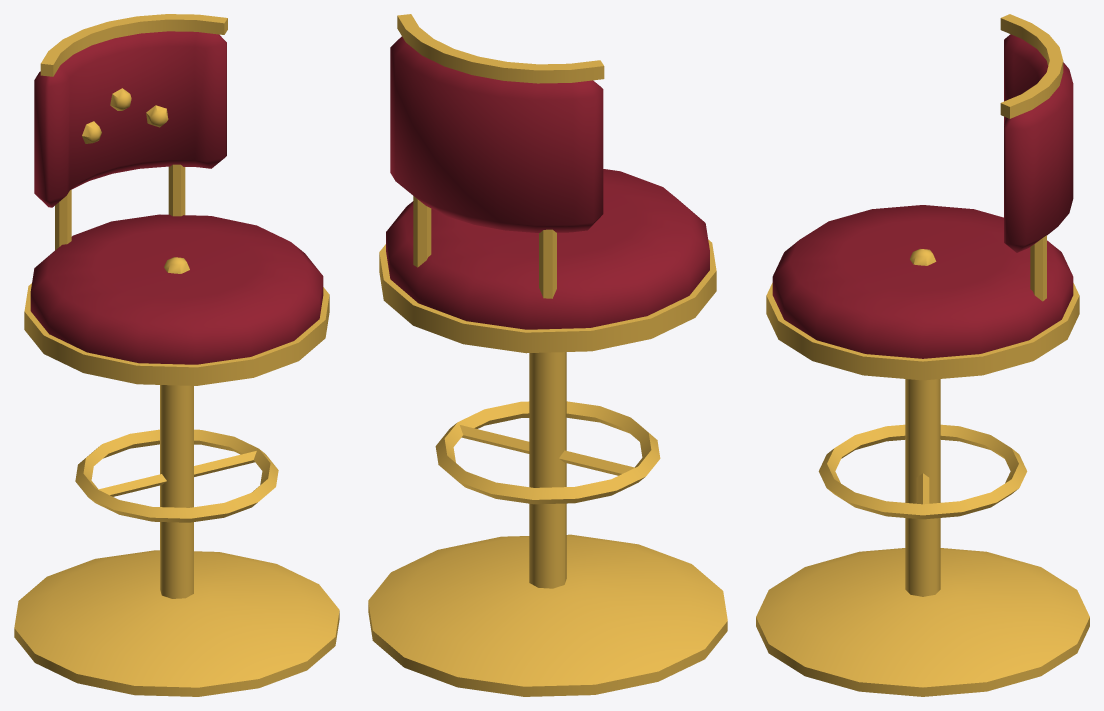
Rendered from Lobby_BarStool.fbx.
3 views of the same model, side by side, from view 1: azimuth 30°, elevation 25°; view 2: azimuth 150°, elevation 25°; view 3: azimuth 270°, elevation 25° (orthographic). The views are drawn at different scales.
Parts seen in each view (by area): view 1: Velvet, Pole, Gold; view 2: Velvet, Pole, Gold; view 3: Velvet, Pole, Gold.
Part boxes in pixels (x1=…): Velvet: x1=30, y1=31, x2=323, y2=364; Pole: x1=14, y1=385, x2=339, y2=696; Gold: x1=24, y1=14, x2=329, y2=522; Velvet: x1=386, y1=36, x2=709, y2=329; Pole: x1=368, y1=352, x2=727, y2=696; Gold: x1=379, y1=14, x2=716, y2=504; Velvet: x1=772, y1=34, x2=1073, y2=358; Pole: x1=756, y1=379, x2=1089, y2=696; Gold: x1=766, y1=14, x2=1079, y2=519.
Bounding box in the file's own units: 160 × 299 × 160.
